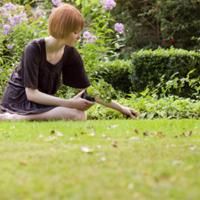person: (1, 4, 141, 120)
